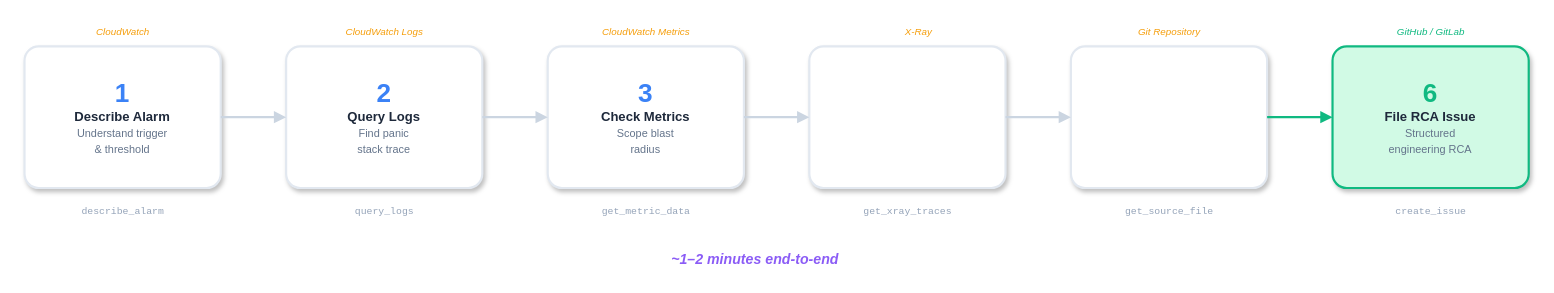
The diagram is 1554 pixels wide and 293 high, and some of its shapes have lost their labels. Each missing label, with the centre of its shape:
"4 Get Traces Trace the failing request" belongs at point (908, 118).
"5 Read Source Identify root cause in code" belongs at point (1169, 118).
